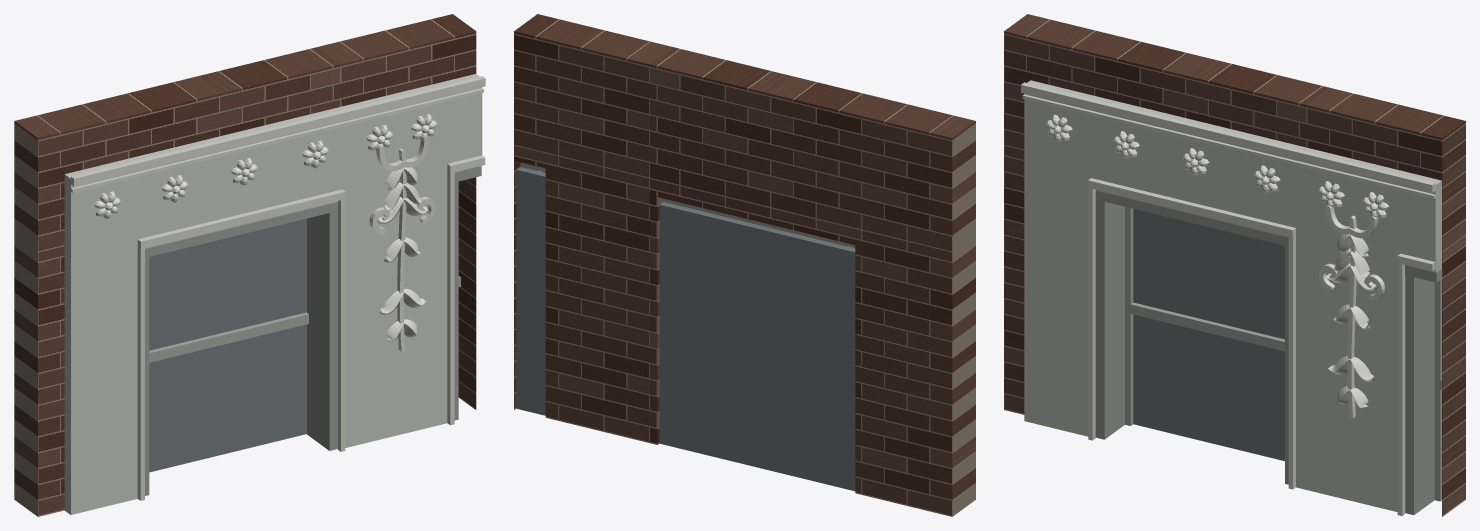
Rendered from xiangyang-351-355-floral-window-surround-far.glb.
3 renders of one model, left to right at view 1: azimuth 30°, elevation 25°; view 2: azimuth 150°, elevation 25°; view 3: azimuth 330°, elevation 25°, orthographic.
Visible parts, largest first — view 1: 襄阳南路351至355号街面窗框花饰与垂叶; view 2: 襄阳南路351至355号街面窗框花饰与垂叶; view 3: 襄阳南路351至355号街面窗框花饰与垂叶.
Boxes of the visible parts, left/top/right/bottom form: 襄阳南路351至355号街面窗框花饰与垂叶: left=14, top=14, right=485, bottom=516; 襄阳南路351至355号街面窗框花饰与垂叶: left=514, top=14, right=975, bottom=516; 襄阳南路351至355号街面窗框花饰与垂叶: left=1004, top=14, right=1465, bottom=516.
Bounding box in the file's own units: 2.08 × 1.72 × 0.2889.
8 materials, 1 textured.
